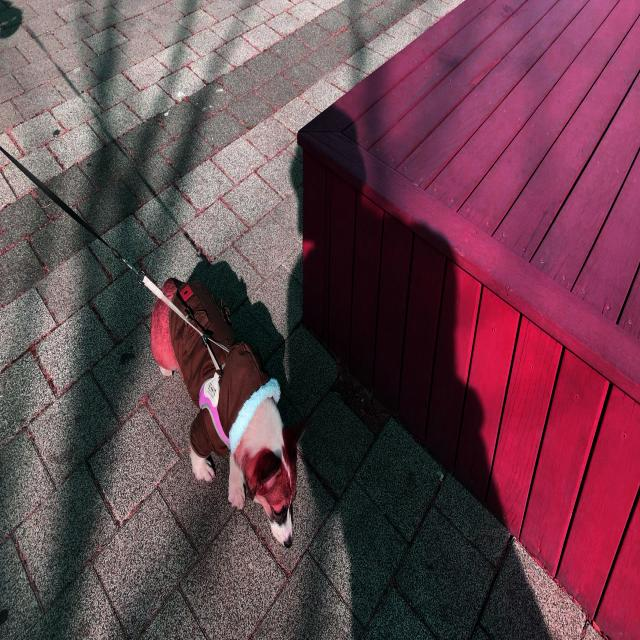Dog: (148, 277, 314, 553)
